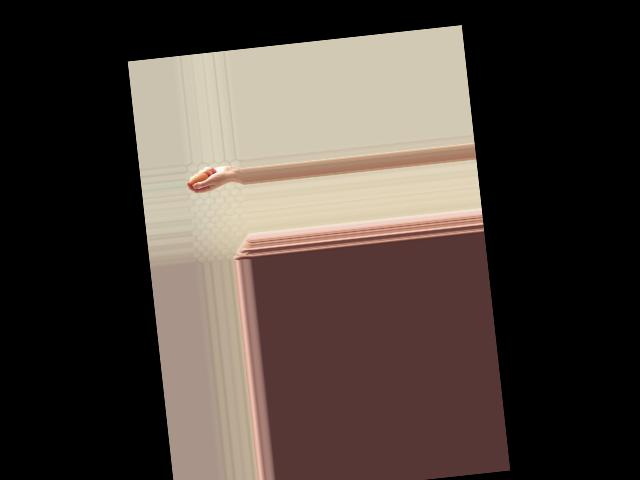egg: (188, 170, 209, 188)
